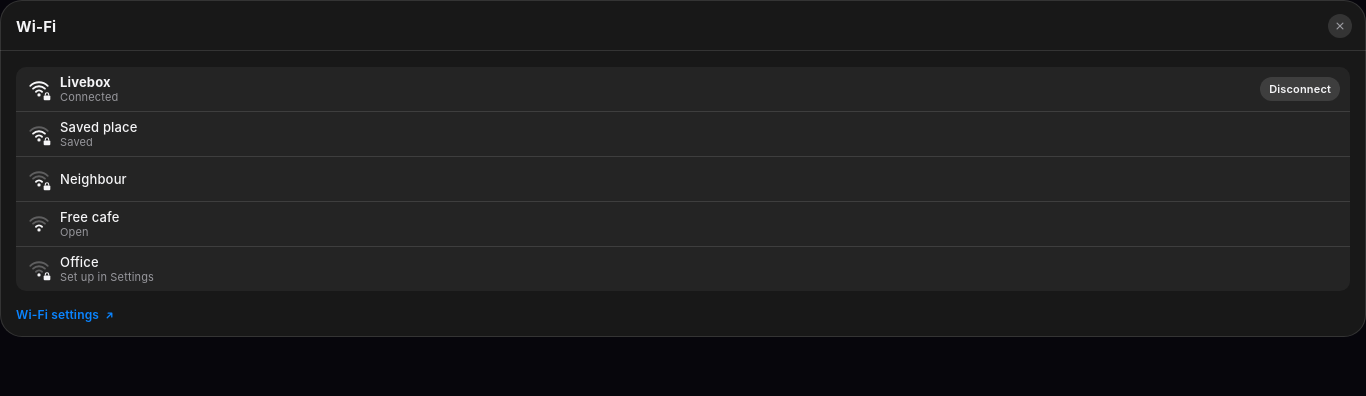
Test: the password never appears once submitted
This screenshot has width=1366, height=396.
Click the button "Neighbour": (93, 179) [16,157,1350,201]
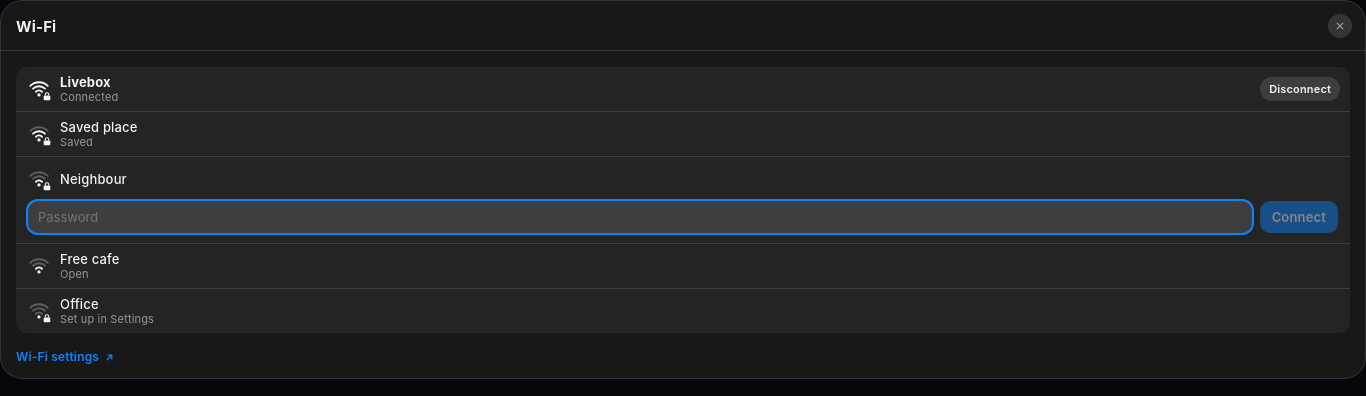
In the password field named "Password for Neighbour": (640, 217) [28,201,1252,233], type "hunter2hunter2"
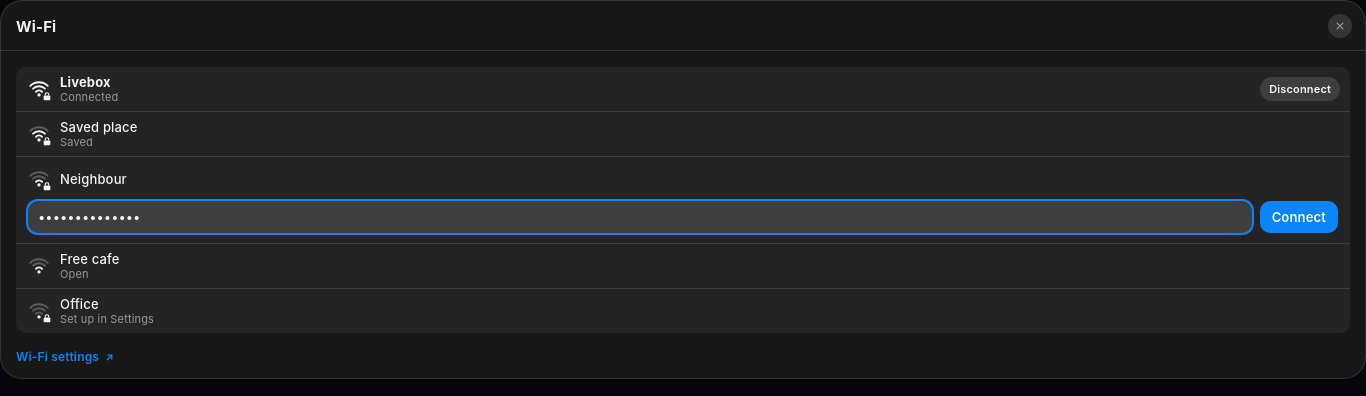
Click the button "Connect": (1299, 217) [1260,201,1338,233]
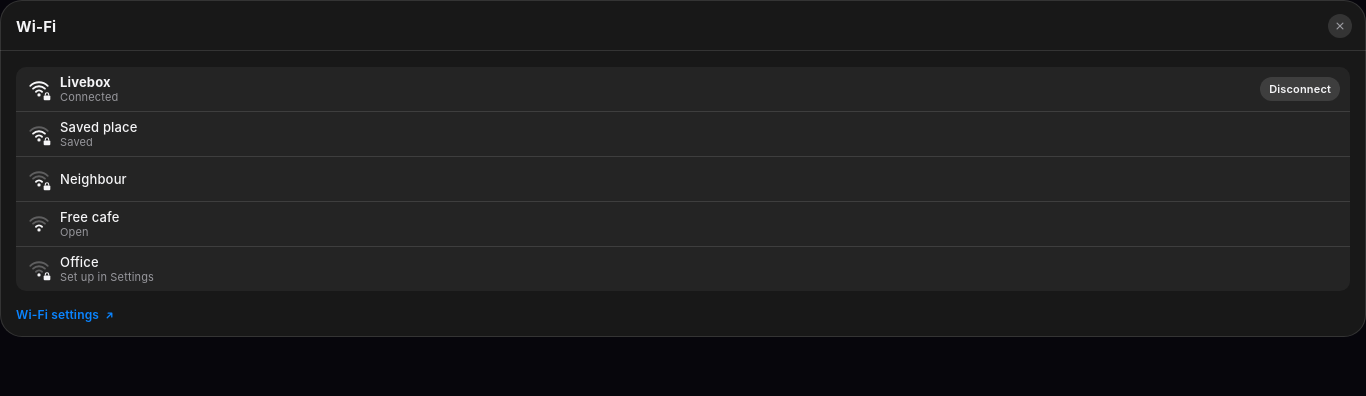
Now the password field labelled "Password" is gone
